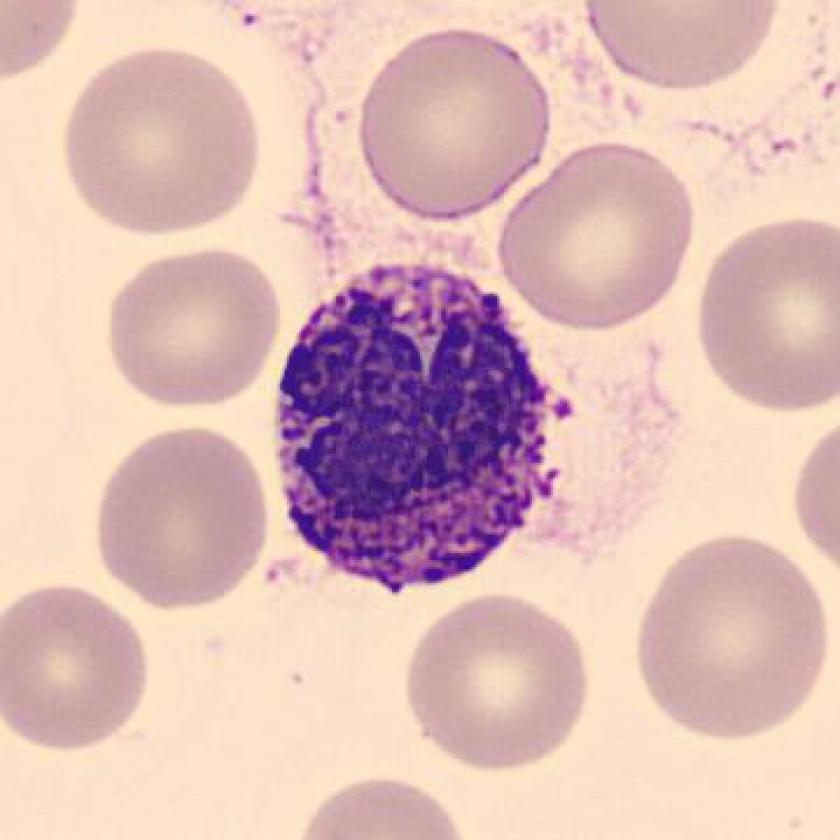basophil: (272, 246, 561, 598)
